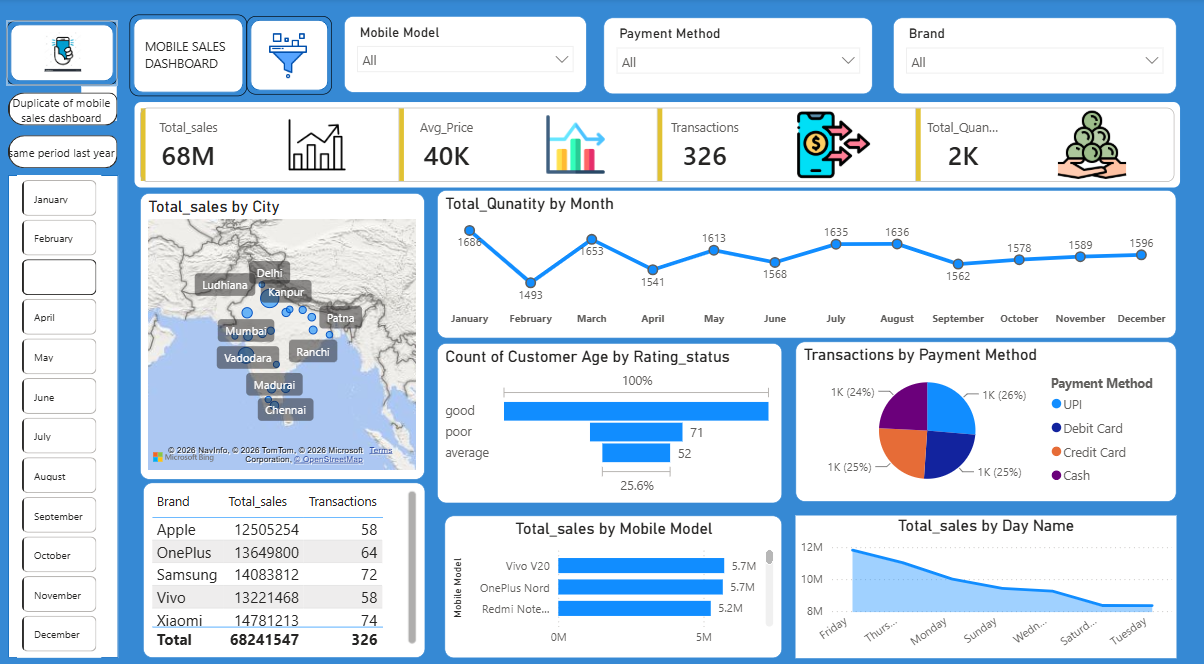

Layout of this report page (visuals, bound fields, positions):
{"tool":"powerbi","page":{"name":"mobile sales dashboard","canvas":[1280,720],"ordinal":0},"visuals":[{"type":"image","box":[9.5,0,108.2,77.9],"z":0},{"type":"image","box":[19.1,12.7,87.5,55.7],"z":1000},{"type":"shape","box":[0,0,1280.4,720.5],"z":2000},{"type":"shape","box":[8,23.9,117.7,68.4],"z":3000},{"type":"shape","box":[9.4,187.1,117.2,512.1],"z":6000},{"type":"cardVisual","fields":{"Data":["sales.Total_sales","sales.AVG_PRICE","sales.Transactions","sales.Total_Qunatity"]},"box":[138.4,105,1123,101.8],"z":7000},{"type":"slicer","fields":{"Values":["sales.Mobile Model"]},"box":[366.6,18.9,257,81.3],"z":8000},{"type":"slicer","fields":{"Values":["sales.Payment Method"]},"box":[640.6,20.8,285.4,81.3],"z":9000},{"type":"slicer","fields":{"Values":["sales.Brand"]},"box":[948.7,20.8,300.5,81.3],"z":10000},{"type":"shape","box":[262.7,18.9,90.7,83.2],"z":11000},{"type":"shape","box":[138,17,124.7,86.9],"z":12000},{"type":"image","box":[275.9,35.9,62.4,49.1],"z":13000},{"type":"textbox","box":[149,36,99,49],"z":14000},{"type":"map","fields":{"Category":["sales.City"],"Size":["sales.Total_sales"]},"box":[149.5,206.8,302.2,303.8],"z":15000},{"type":"lineChart","fields":{"Category":["custom calendar.Date.Variation.Date Hierarchy.Month"],"Y":["sales.Total_Qunatity"]},"box":[464.5,203.6,784.2,157.5],"z":16000},{"type":"funnel","fields":{"Category":["sales.Rating_status"],"Y":["CountNonNull(sales.Customer Age)"]},"box":[464.5,365.8,365.8,170.2],"z":17000},{"type":"advancedSlicerVisual","fields":{"Values":["custom calendar.Date.Variation.Date Hierarchy.Month"]},"box":[19.1,187.7,89.1,512.2],"z":18000},{"type":"pieChart","fields":{"Y":["sales.Transactions"],"Category":["sales.Payment Method"]},"box":[844.6,364.2,404,170.2],"z":19000},{"type":"barChart","fields":{"Category":["sales.Mobile Model"],"Y":["sales.Total_sales"]},"box":[472.4,548.8,357.9,151.1],"z":20000},{"type":"areaChart","fields":{"Category":["custom calendar.Day Name"],"Y":["sales.Total_sales"]},"box":[844.6,548.8,404,151.1],"z":21000},{"type":"tableEx","fields":{"Values":["sales.Brand","sales.Total_sales","sales.Transactions"]},"box":[152.7,513.8,299,186.1],"z":22000},{"type":"pageNavigator","box":[9.5,100.2,116.1,81.1],"z":22001},{"type":"image","box":[39.8,36.6,55.7,41.4],"z":22002}]}

Visuals, with their boxes in screenshot pixels (x1, y1, x2, y2), scaled from the page's 1280x720 canvas onto the 1204x664 screenshot:
image: [left=9, top=0, right=111, bottom=72]
image: [left=18, top=12, right=100, bottom=63]
shape: [left=0, top=0, right=1203, bottom=663]
shape: [left=8, top=22, right=118, bottom=85]
shape: [left=9, top=173, right=119, bottom=645]
cardVisual - sales.Total_sales x sales.AVG_PRICE: [left=130, top=97, right=1187, bottom=191]
slicer - sales.Mobile Model: [left=345, top=17, right=587, bottom=92]
slicer - sales.Payment Method: [left=603, top=19, right=871, bottom=94]
slicer - sales.Brand: [left=892, top=19, right=1175, bottom=94]
shape: [left=247, top=17, right=332, bottom=94]
shape: [left=130, top=16, right=247, bottom=96]
image: [left=260, top=33, right=318, bottom=78]
textbox: [left=140, top=33, right=233, bottom=78]
map - sales.City x sales.Total_sales: [left=141, top=191, right=425, bottom=471]
lineChart - custom calendar.Date.Variation.Date Hierarchy.Month x sales.Total_Qunatity: [left=437, top=188, right=1175, bottom=333]
funnel - sales.Rating_status x CountNonNull(sales.Customer Age): [left=437, top=337, right=781, bottom=494]
advancedSlicerVisual - custom calendar.Date.Variation.Date Hierarchy.Month: [left=18, top=173, right=102, bottom=645]
pieChart - sales.Transactions x sales.Payment Method: [left=794, top=336, right=1174, bottom=493]
barChart - sales.Mobile Model x sales.Total_sales: [left=444, top=506, right=781, bottom=645]
areaChart - custom calendar.Day Name x sales.Total_sales: [left=794, top=506, right=1174, bottom=645]
tableEx - sales.Brand x sales.Total_sales: [left=144, top=474, right=425, bottom=645]
pageNavigator: [left=9, top=92, right=118, bottom=167]
image: [left=37, top=34, right=90, bottom=72]
